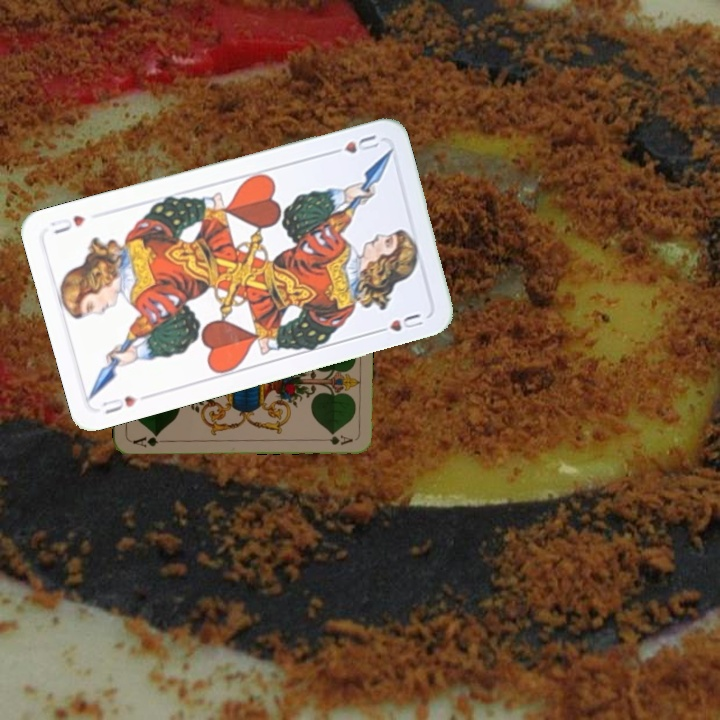GA: (129, 430, 161, 449)
HU: (324, 130, 382, 158), (98, 391, 140, 417)
